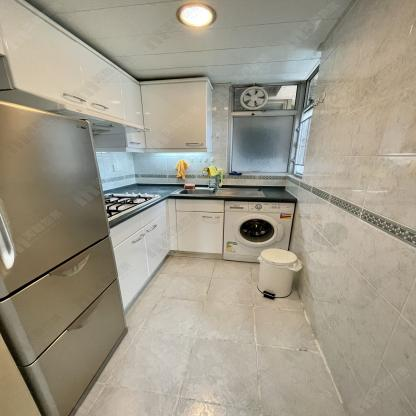Cupboard: (140, 77, 215, 152)
Exhaust Fan: (237, 85, 273, 111)
Exhaust Hood: (0, 89, 152, 136)
Faucet: (201, 165, 221, 190)
Fridge: (0, 103, 129, 416)
Sink: (167, 186, 271, 198)
Stove: (104, 190, 168, 224)
Washing Machine: (223, 201, 296, 263)
